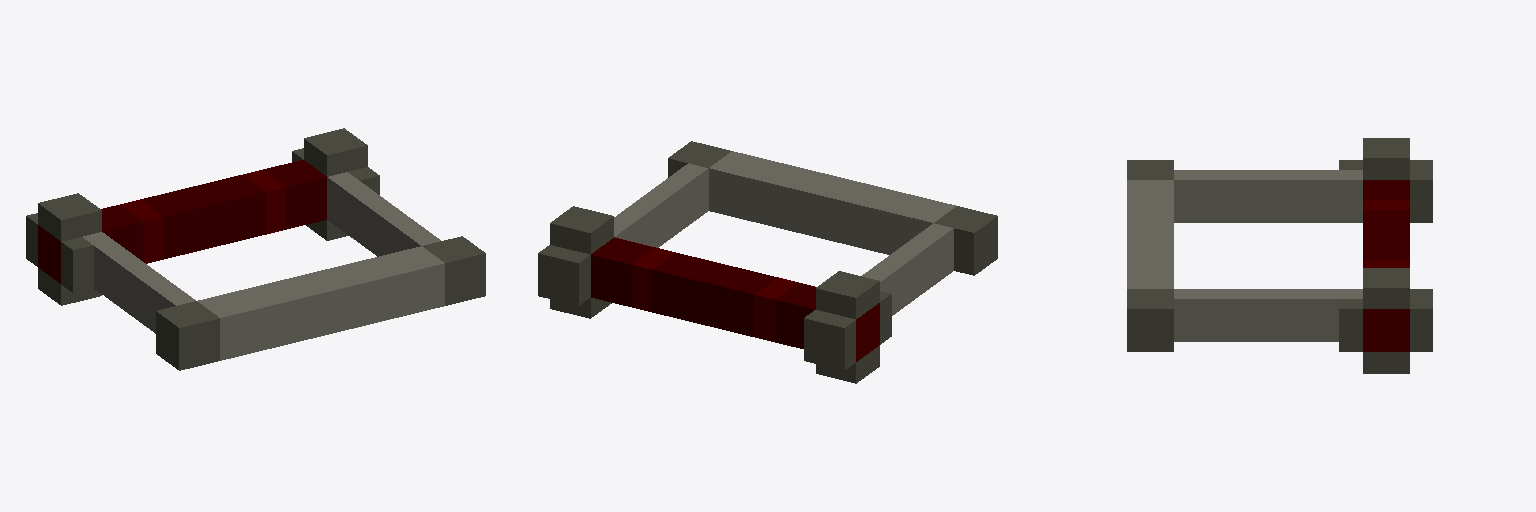
The picture shows the model from 3 angles: view 1: azimuth 30°, elevation 25°; view 2: azimuth 150°, elevation 25°; view 3: azimuth 270°, elevation 25°; orthographic projection.
Parts seen in each view (by area): view 1: object 1; view 2: object 1; view 3: object 1.
Boxes of the visible parts, <box> form: object 1: <box>26,128,485,370</box>; object 1: <box>538,141,997,383</box>; object 1: <box>1127,138,1432,373</box>.
Size of the model in its own units: 1.5 by 0.4 by 1.3.
1 materials, 1 textured.